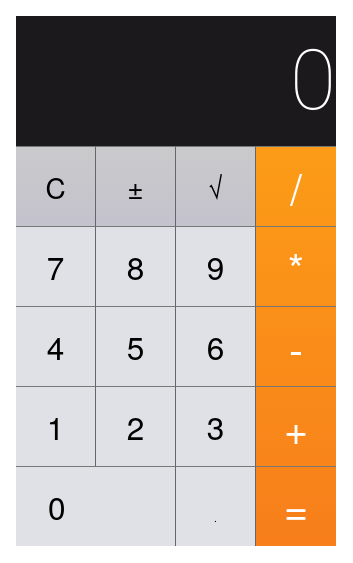
Test case: Calculator Tests › should display 'Infinity' when "1 / 0 = " is clicked
Click the button with class "key-1" at (56, 426), box [16, 386, 96, 466]
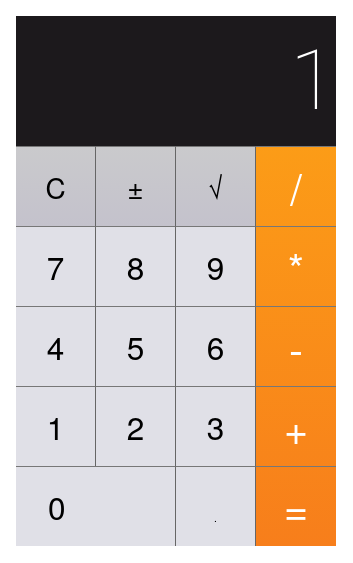
Click the button with class "key-divide" at (296, 186), box [256, 146, 336, 226]
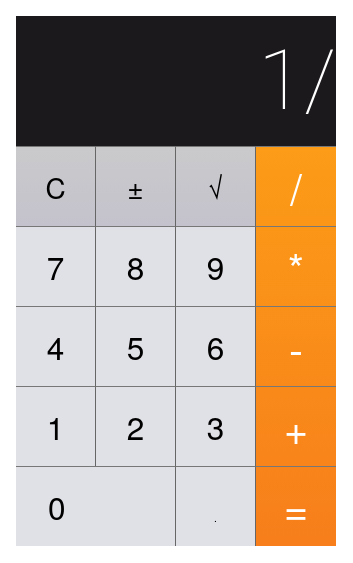
Click the button with class "key-0" at (96, 506), box [16, 466, 176, 546]
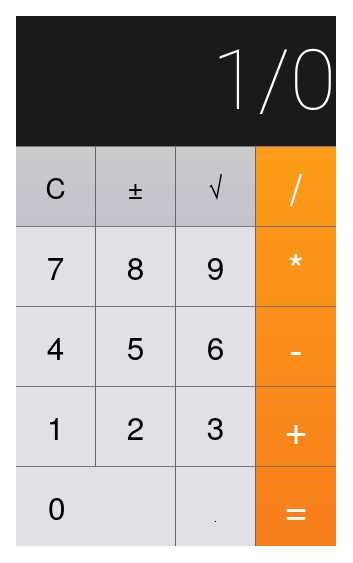
Click the button with class "key-equals" at (296, 506), box [256, 466, 336, 546]
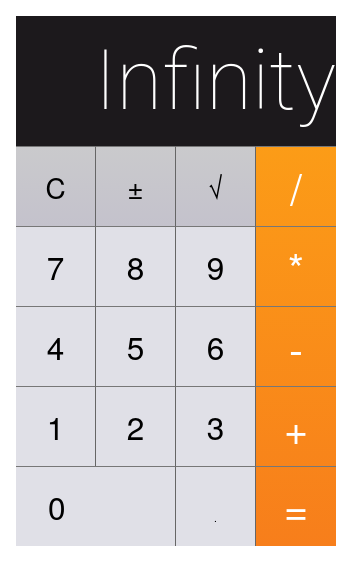
Result: the text with class "calculator-display" reads "Infinity" at [16, 16, 336, 146]
